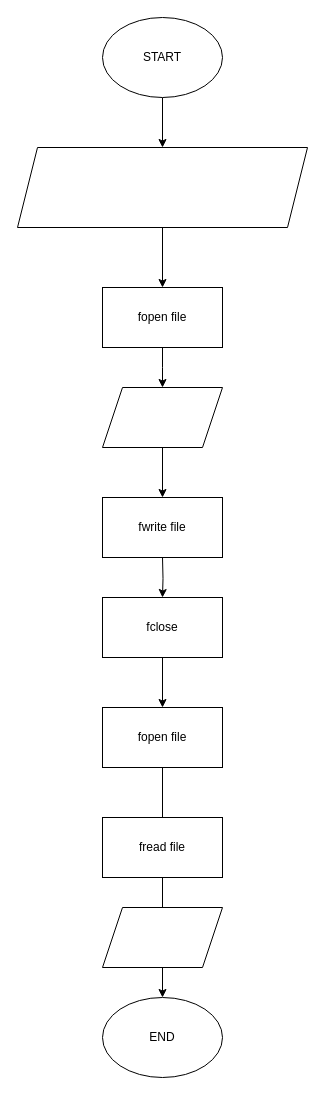
Image size: 325x1095. Some labels were removed from this diagram. The centre of each missing label's shape, as x and y in pixels:
"filePoiter, buffer [100], numLines" goes at [162,187].
"in ra man hinh" goes at [162,937].
"numLines" goes at [162,417].
